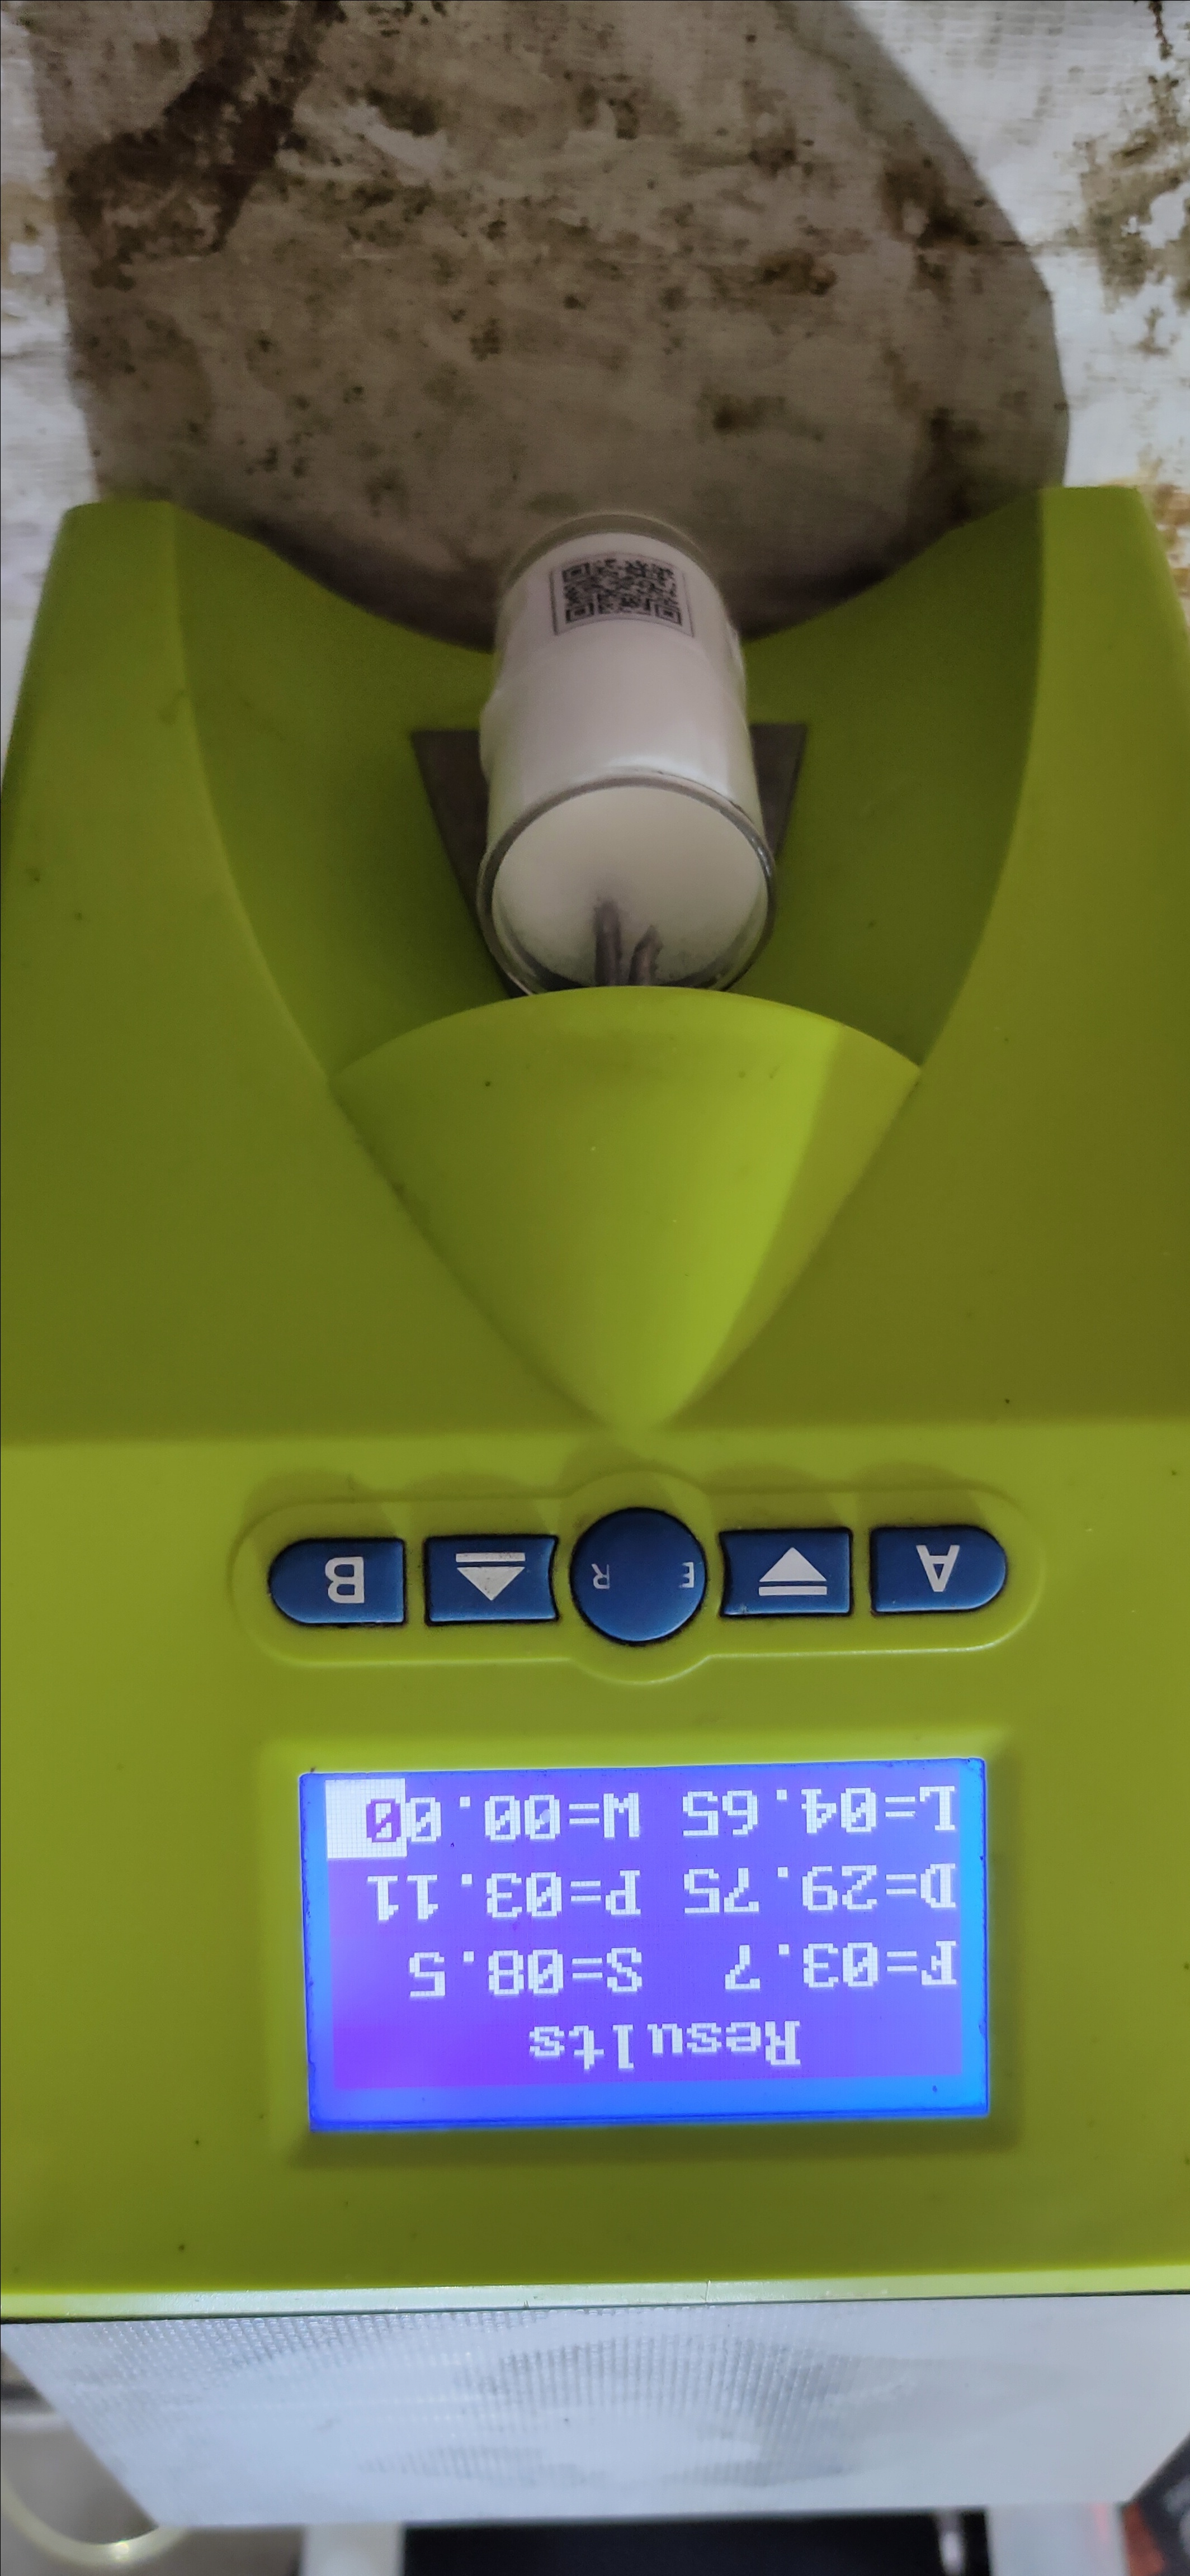lcd: (281, 1755, 1012, 2142)
qr: (549, 529, 697, 652)
